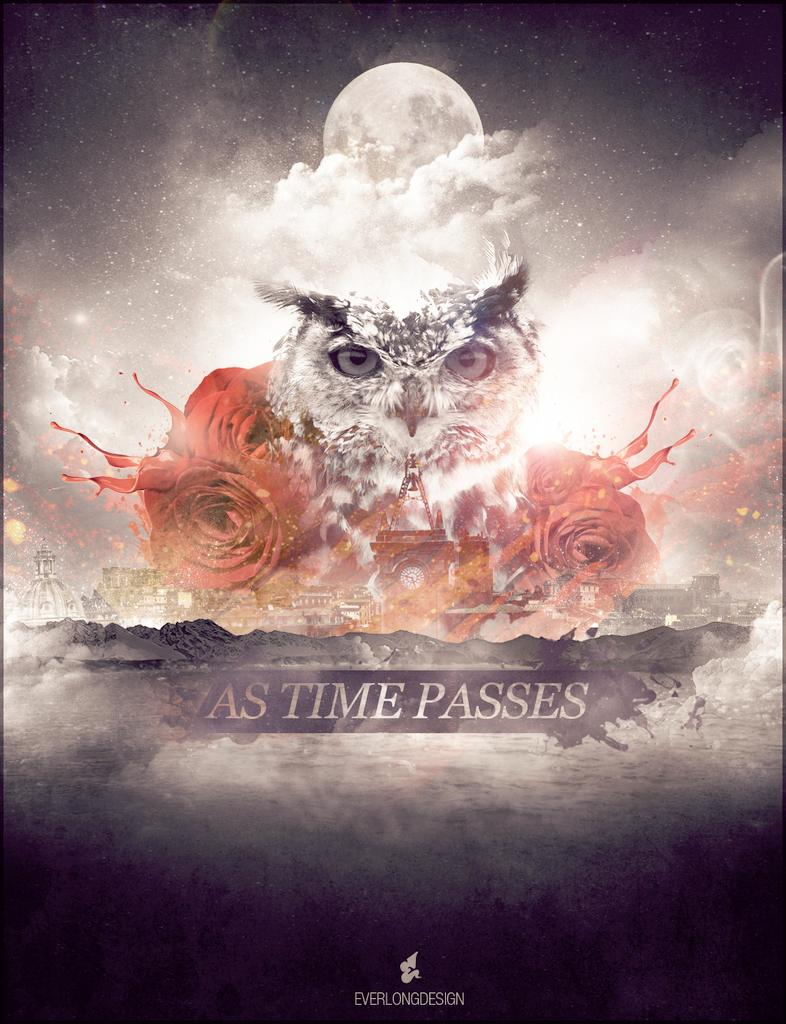Owl: (251, 254, 556, 503)
